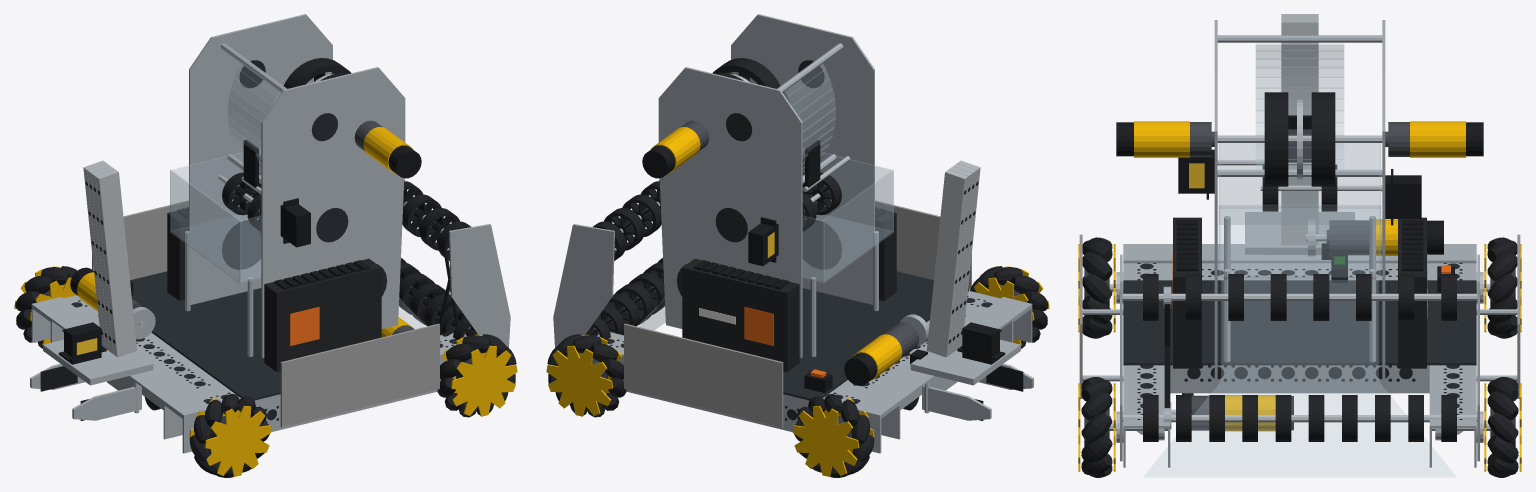
The model's file is robot.glb.
3 renders of one model, left to right at view 1: azimuth 30°, elevation 25°; view 2: azimuth 150°, elevation 25°; view 3: azimuth 270°, elevation 25°, orthographic. The views are drawn at different scales.
Visible parts, largest first — view 1: Launcher side plates, Alliance sign R, Expansion Hub, Electronics deck, Hopper, Intake side plates, Wheel BR, Wheel FR, Lift base, Lift carriage, Hood, Alliance sign L (+19 smaller); view 2: Launcher side plates, Alliance sign L, Control Hub, Hopper, Electronics deck, Intake side plates, Wheel BL, Wheel FL, Lift stage 3, Lift carriage, Hood, Intake roller (+20 smaller); view 3: Intake ramp, Electronics deck, Hopper, Intake roller, Hood, Intake upper roller, Crossbar middle, Flywheel, Expansion Hub, Control Hub, Rear plate, Shooter motor R (+26 smaller).
Part boxes in pixels (x1,y1,x2,y2): Launcher side plates: (189, 14, 405, 357); Alliance sign R: (280, 323, 439, 427); Expansion Hub: (264, 258, 381, 371); Electronics deck: (130, 271, 280, 400); Hopper: (170, 148, 261, 356); Intake side plates: (449, 224, 510, 347); Wheel BR: (189, 394, 271, 477); Wheel FR: (437, 334, 517, 417); Lift base: (95, 169, 137, 357); Lift carriage: (43, 322, 153, 390); Hood: (220, 43, 286, 183); Alliance sign L: (92, 200, 188, 280); Launcher side plates: (658, 14, 874, 357); Alliance sign L: (624, 323, 783, 427); Control Hub: (682, 258, 799, 371); Hopper: (802, 148, 893, 356); Electronics deck: (783, 271, 969, 400); Intake side plates: (553, 224, 614, 347); Wheel BL: (792, 394, 874, 477); Wheel FL: (546, 334, 626, 417); Lift stage 3: (926, 169, 968, 357); Lift carriage: (910, 322, 1020, 390); Hood: (777, 43, 843, 183); Intake roller: (586, 258, 664, 339); Intake ramp: (1143, 280, 1456, 476); Electronics deck: (1123, 280, 1476, 365); Hopper: (1218, 143, 1381, 362); Intake roller: (1122, 395, 1477, 441); Hood: (1217, 35, 1382, 176); Intake upper roller: (1122, 274, 1477, 320); Crossbar middle: (1170, 365, 1429, 393); Flywheel: (1217, 92, 1382, 186); Expansion Hub: (1172, 217, 1201, 368); Control Hub: (1398, 217, 1427, 368); Rear plate: (1123, 244, 1476, 263); Shooter motor R: (1116, 121, 1234, 157).
Bounding box in the file's own units: 0.52 × 0.4198 × 0.4517.
